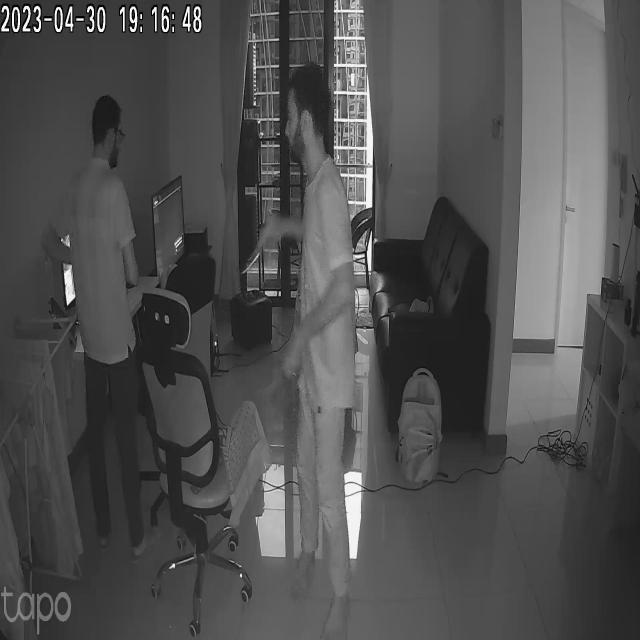Knife: (229, 236, 284, 282)
